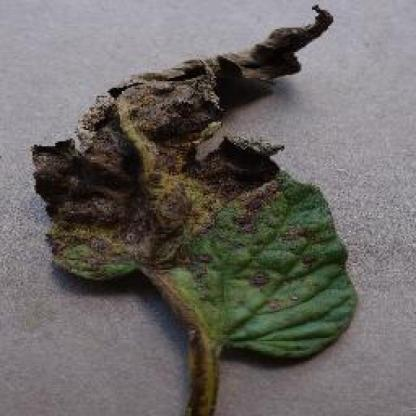Tomato_Blight: (33, 3, 356, 359)
